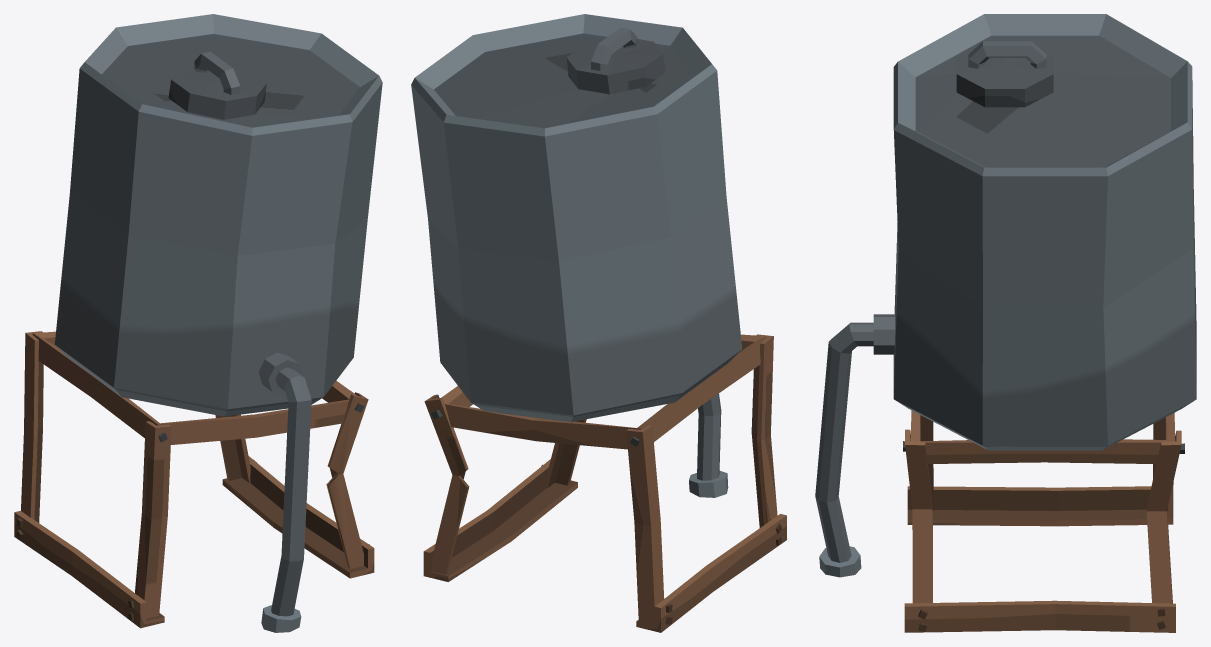
The model's file is SM_Prop_WaterTank_02.glb.
3 renders of one model, left to right at view 1: azimuth 30°, elevation 25°; view 2: azimuth 150°, elevation 25°; view 3: azimuth 270°, elevation 25°, orthographic. The views are drawn at different scales.
Visible parts, largest first — view 1: SM_Prop_WaterTank_02; view 2: SM_Prop_WaterTank_02; view 3: SM_Prop_WaterTank_02.
Part boxes in pixels (bbox=[...]): SM_Prop_WaterTank_02: bbox=[14, 14, 382, 632]; SM_Prop_WaterTank_02: bbox=[411, 14, 786, 632]; SM_Prop_WaterTank_02: bbox=[815, 14, 1196, 632].
Bounding box in the file's own units: 2.1 × 3.59 × 2.33.
1 material, 1 textured.
